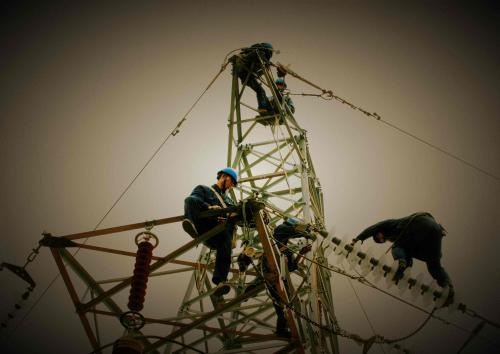blue: (215, 163, 240, 194)
